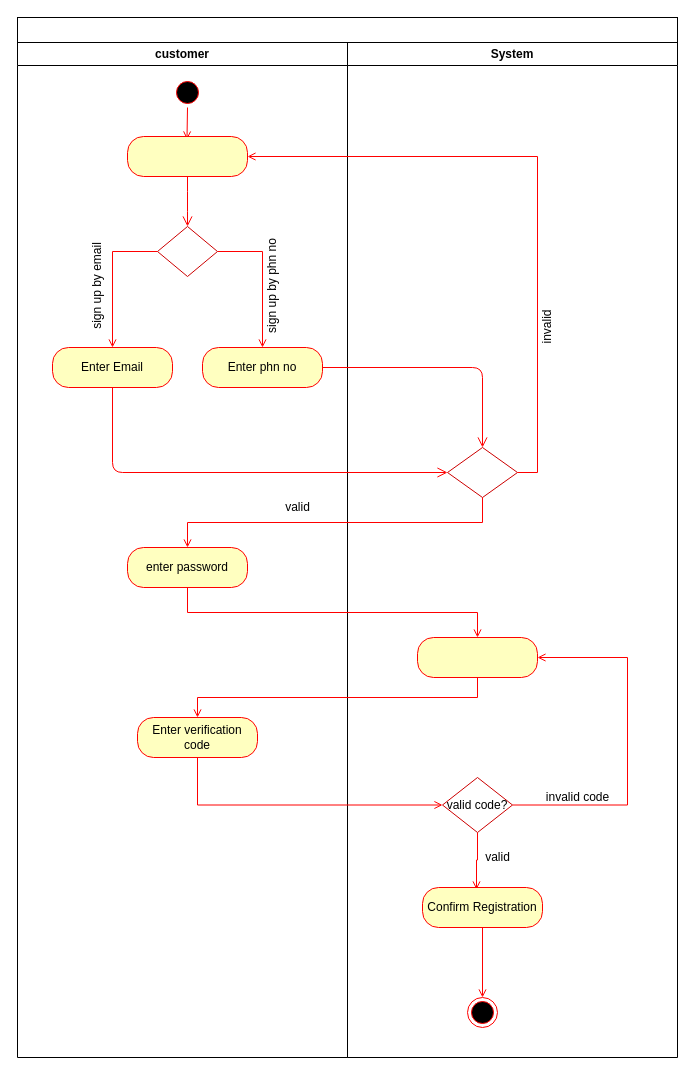
The diagram is 695 pixels wide and 1075 high, and some of its shapes have lost their labels. Here are the shapes that lost their labels. From the top down, the centre of each, then its label:
the point at 347,29: Registration
the point at 187,156: Select registration method
the point at 482,472: verify
the point at 477,657: Send verification code
